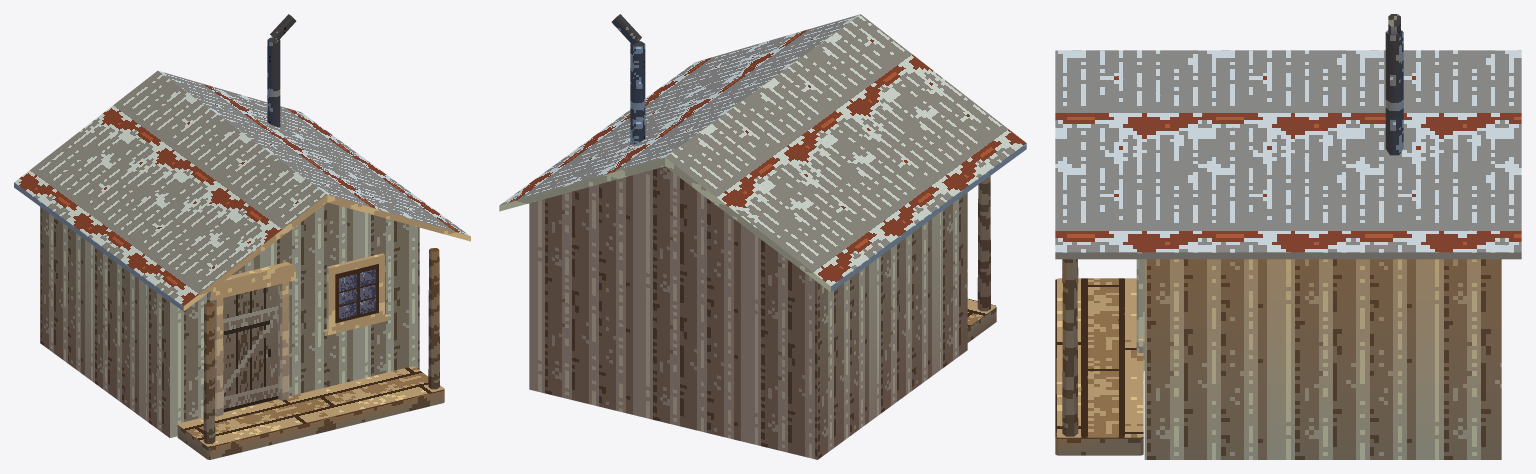
The model's file is wtown.shack.glb.
3 renders of one model, left to right at view 1: azimuth 30°, elevation 25°; view 2: azimuth 150°, elevation 25°; view 3: azimuth 270°, elevation 25°, orthographic. The views are drawn at different scales.
Visible parts, largest first — view 1: kit_roof, kit_body, kit_porch_deck, kit_card_panes, kit_trim, kit_porch, kit_windows, kit_pipe; view 2: kit_body, kit_roof, kit_porch, kit_pipe, kit_porch_deck; view 3: kit_roof, kit_body, kit_porch_deck, kit_porch, kit_pipe, kit_windows.
Part boxes in pixels (<box>): kit_roof: <box>14,70,470,311</box>; kit_body: <box>40,202,419,437</box>; kit_porch_deck: <box>177,366,444,459</box>; kit_card_panes: <box>223,264,378,412</box>; kit_trim: <box>207,262,295,416</box>; kit_porch: <box>203,248,439,443</box>; kit_windows: <box>323,253,388,335</box>; kit_pipe: <box>267,37,280,127</box>; kit_body: <box>529,166,967,459</box>; kit_roof: <box>499,14,1026,291</box>; kit_porch: <box>977,176,990,311</box>; kit_pipe: <box>630,41,645,144</box>; kit_porch_deck: <box>967,298,996,342</box>; kit_roof: <box>1055,50,1521,259</box>; kit_body: <box>1144,259,1501,459</box>; kit_porch_deck: <box>1055,278,1143,455</box>; kit_porch: <box>1062,259,1078,436</box>; kit_pipe: <box>1385,30,1403,155</box>; kit_windows: <box>1138,259,1144,346</box>.
Bounding box in the file's own units: 4.6 × 4.67 × 4.7.
Materials: 9 (9 with a texture image).
